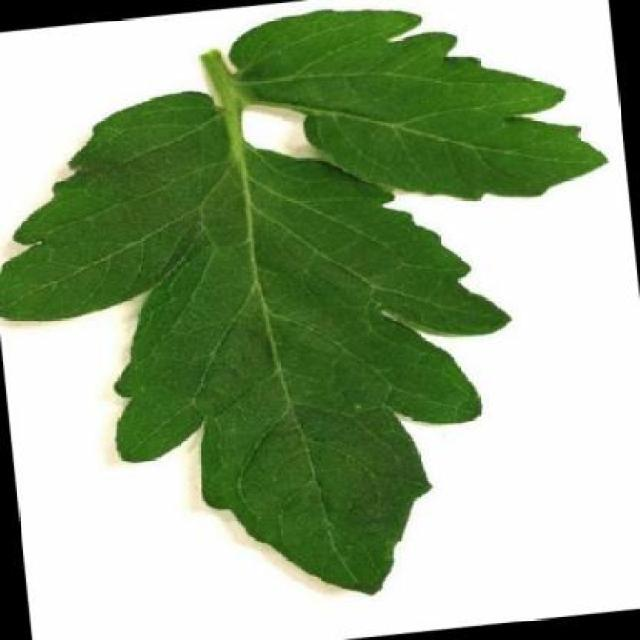Healthy Leaf: (0, 59, 495, 638), (229, 0, 617, 237)
